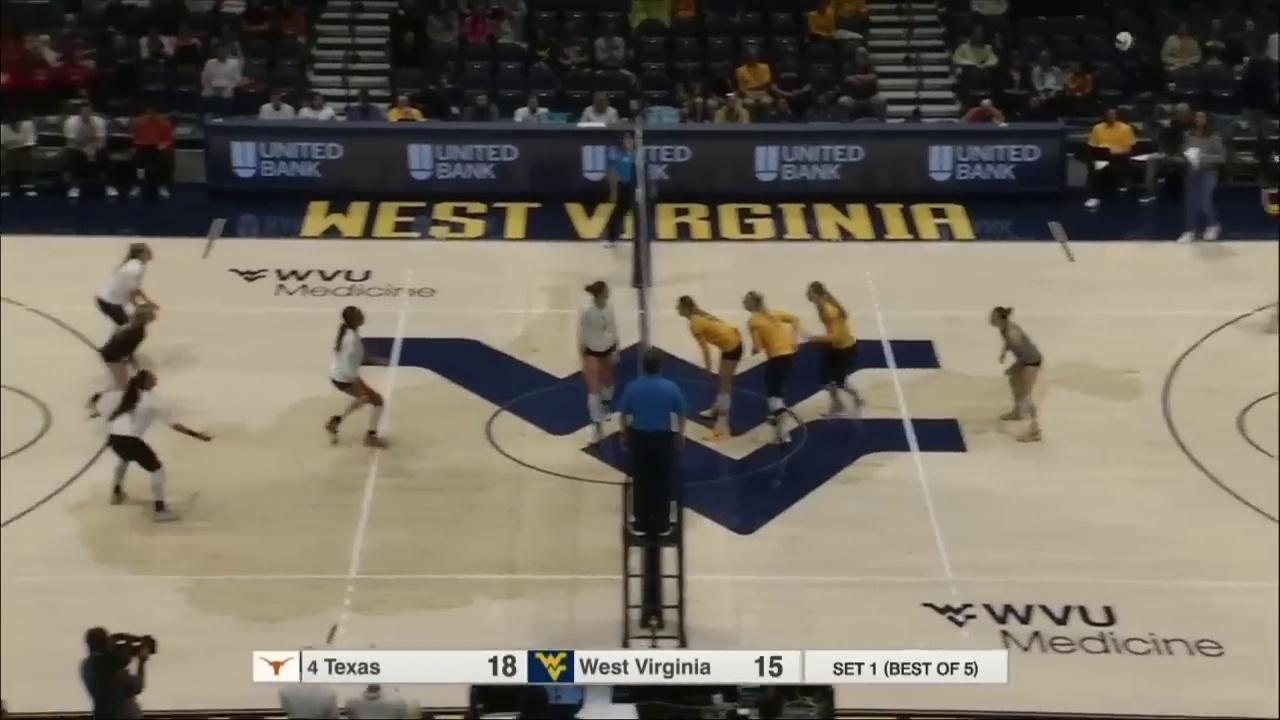player: (107, 369, 212, 524), (325, 305, 395, 451), (679, 295, 745, 439), (742, 291, 799, 445), (85, 303, 159, 419), (808, 282, 867, 417), (97, 242, 161, 357), (989, 306, 1043, 442), (578, 281, 622, 443)
refree: (619, 349, 687, 537), (609, 135, 652, 247)
